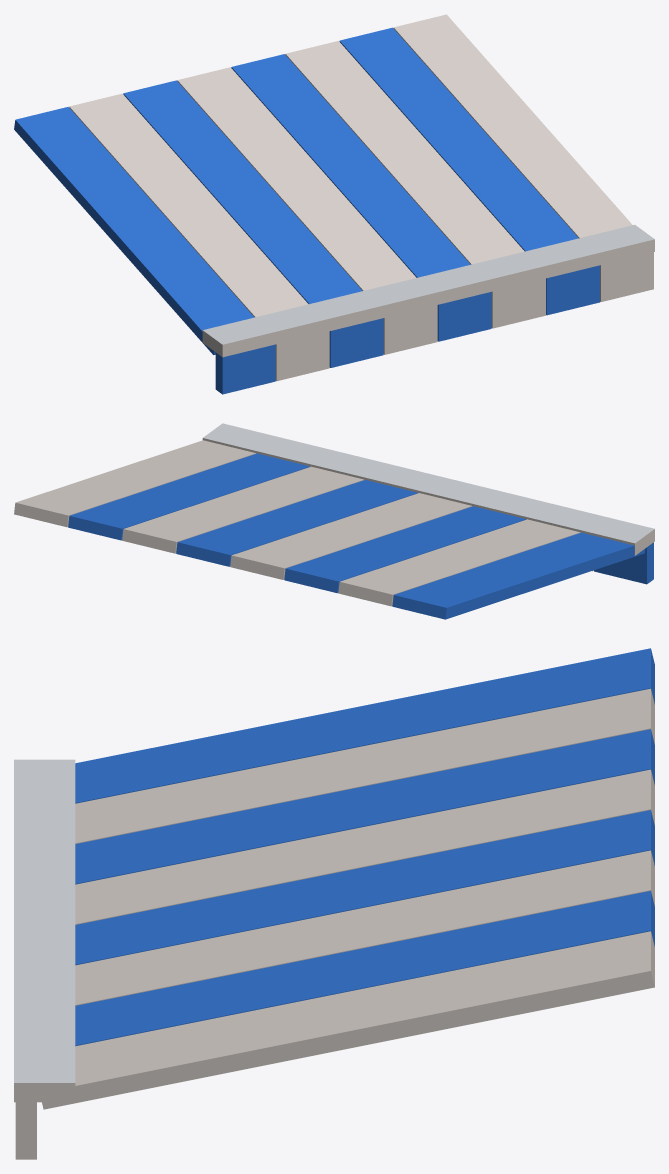
The model's file is Stall_Blue_Canopy.glb.
The picture shows the model from 3 angles, top to bottom: view 1: azimuth 30°, elevation 25°; view 2: azimuth 150°, elevation 25°; view 3: azimuth 270°, elevation 25°; orthographic projection. The views are drawn at different scales.
Visible parts, largest first — view 1: Stall_Blue_Canopy; view 2: Stall_Blue_Canopy; view 3: Stall_Blue_Canopy.
Boxes of the visible parts, <box> form: Stall_Blue_Canopy: <box>14,14,654,394</box>; Stall_Blue_Canopy: <box>14,423,654,619</box>; Stall_Blue_Canopy: <box>14,648,654,1159</box>.
Size of the model in its own units: 9 by 2.45 by 7.54.
